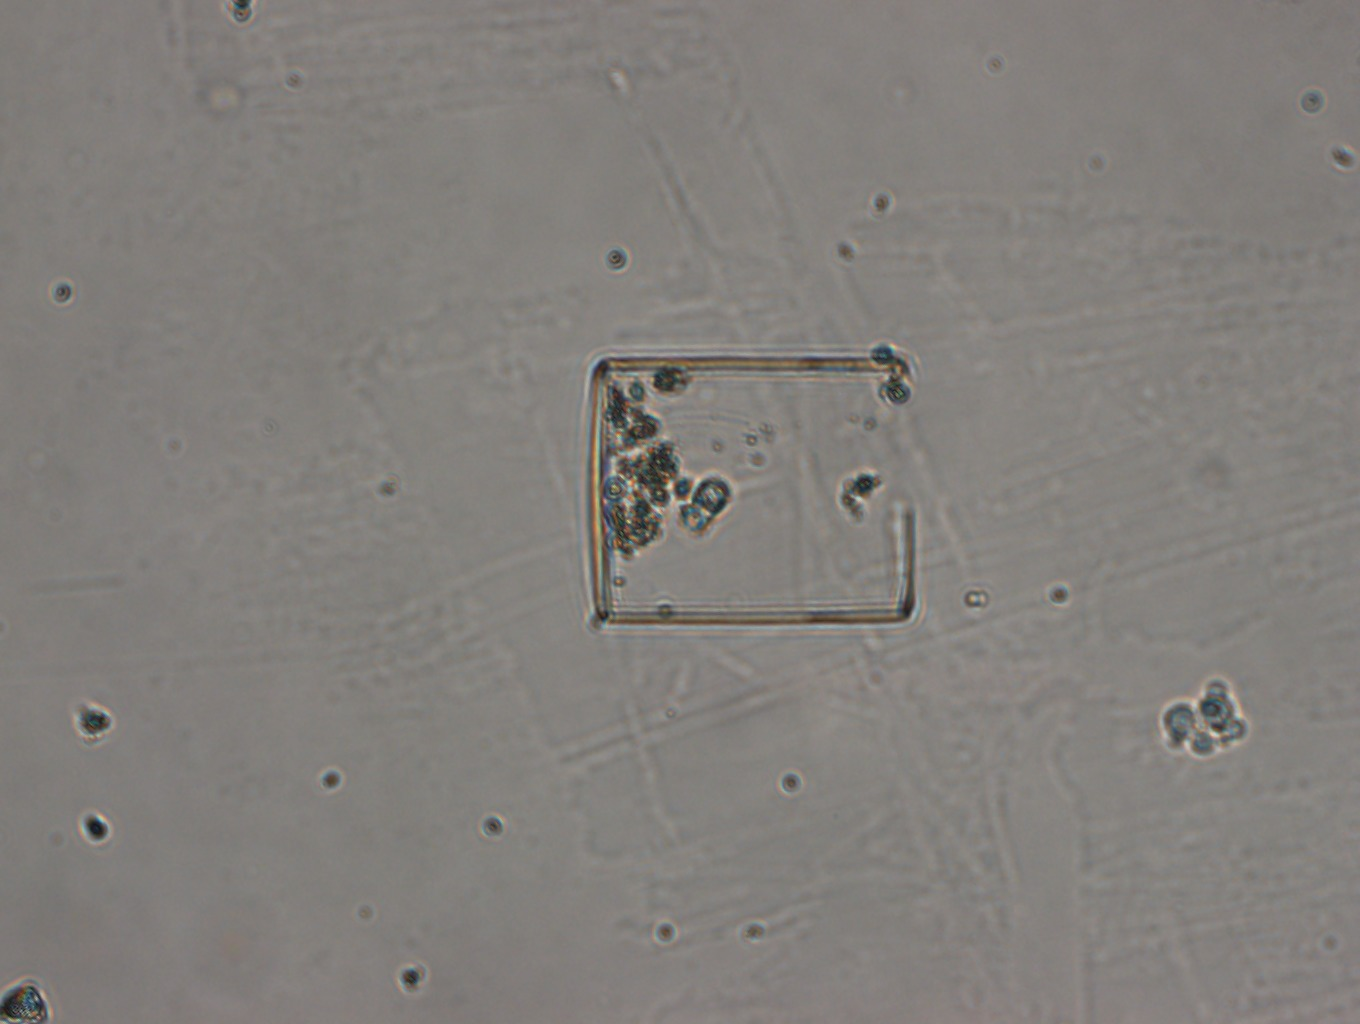guinardia flaccida: (582, 349, 920, 631)
